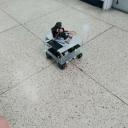cart: (43, 33, 83, 70)
